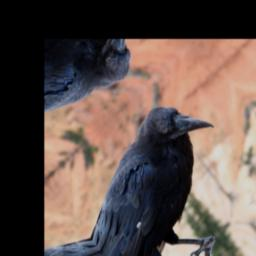Crow: (56, 80, 256, 256)
